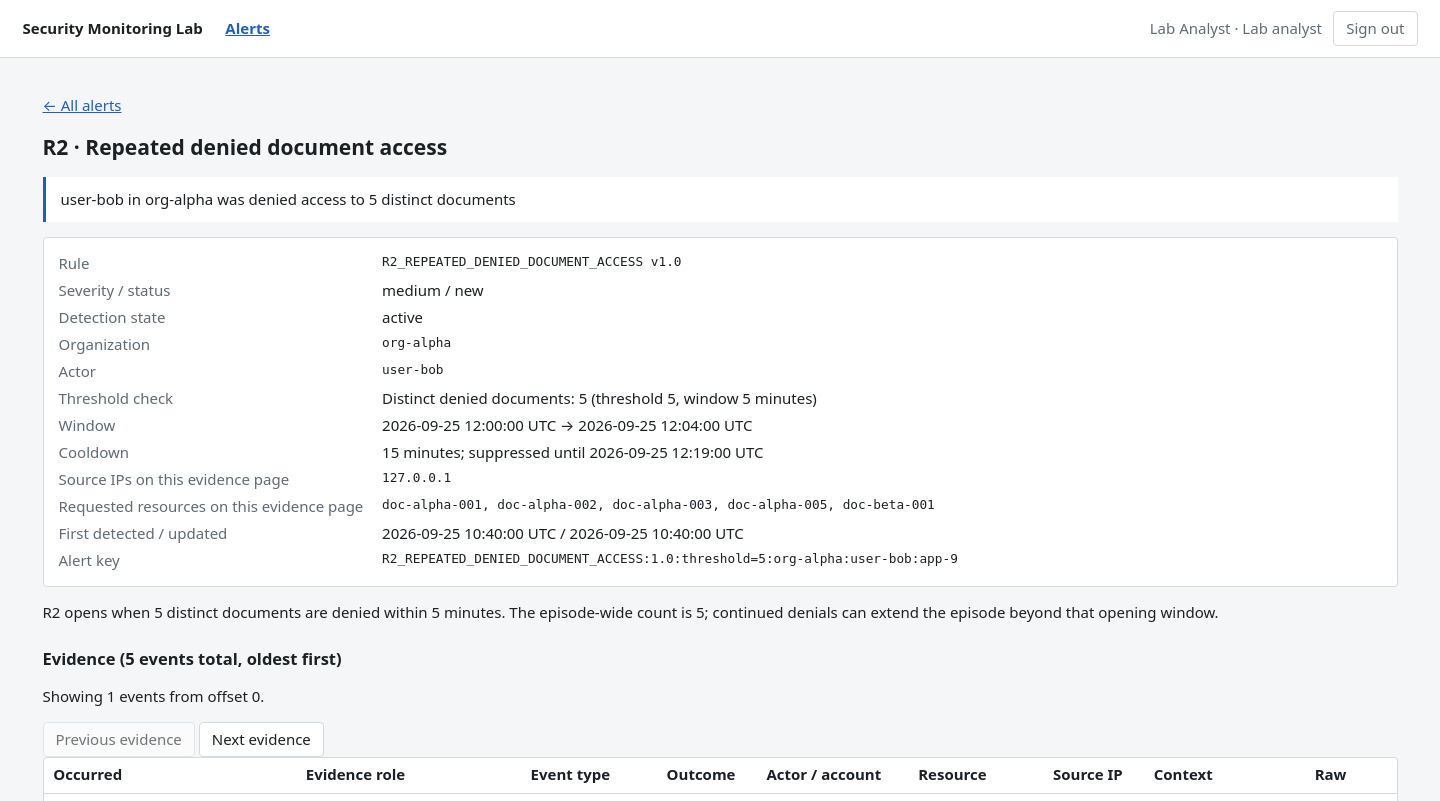
Test: case changes and bounded evidence › paginates evidence without presenting one page as the complete case
Check: the heading "Evidence (5 events total, oldest first)" is shown, box x1=42 y1=647 x2=342 y2=670
Click the button "Next evidence": point(261, 740) x1=199 y1=722 x2=324 y2=757
(page scrolled)
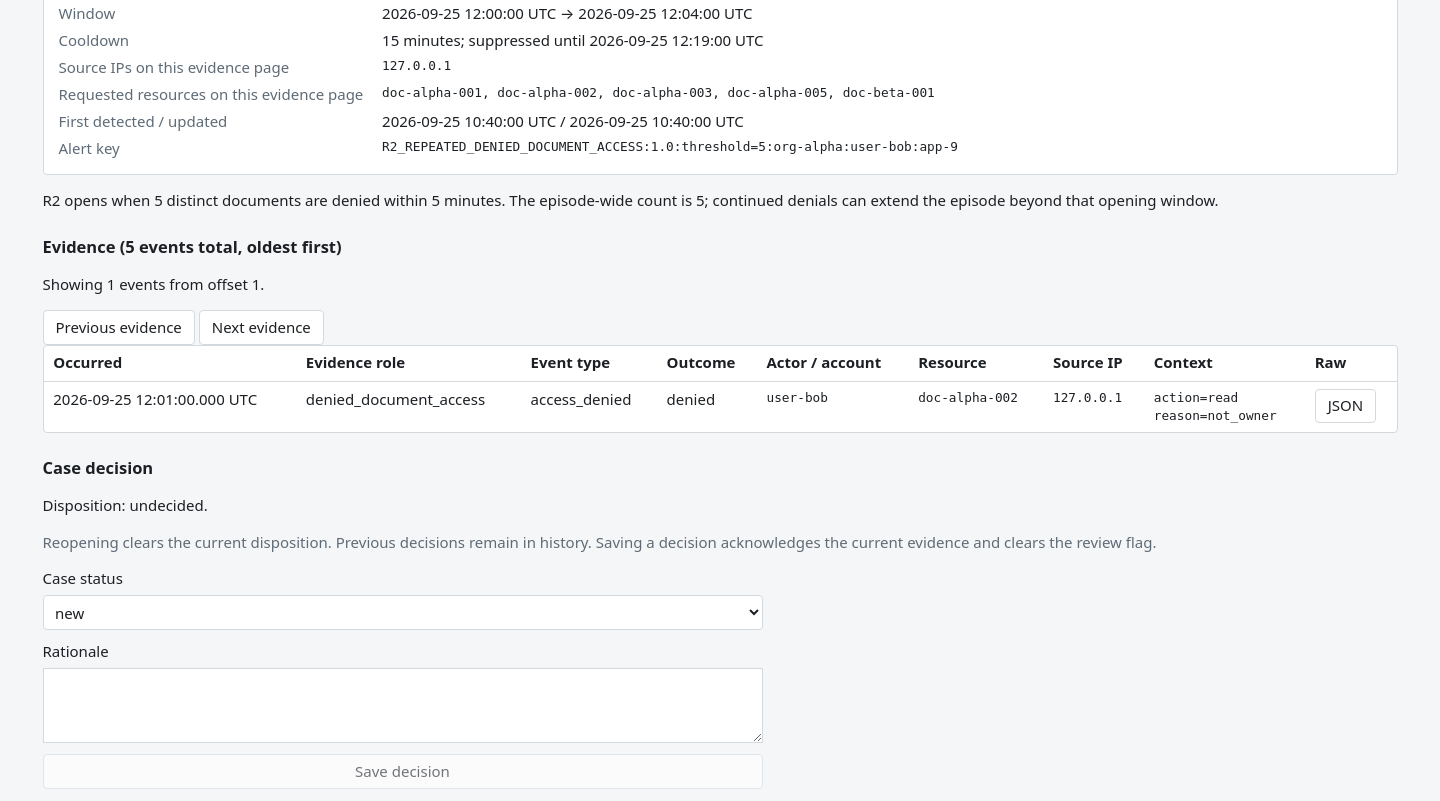
Check: the text "Showing 1 events from offset 1." is shown, box x1=42 y1=274 x2=264 y2=294
Check: the button with aria-label "Raw event app-1" is shown, box x1=1315 y1=389 x2=1376 y2=423
